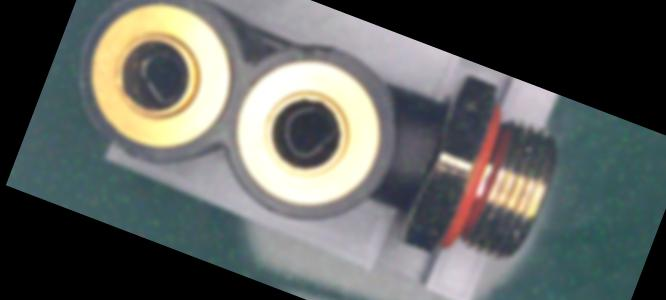off-centered: (268, 94, 344, 169), (125, 43, 198, 111)
white mark: (402, 159, 422, 178)
